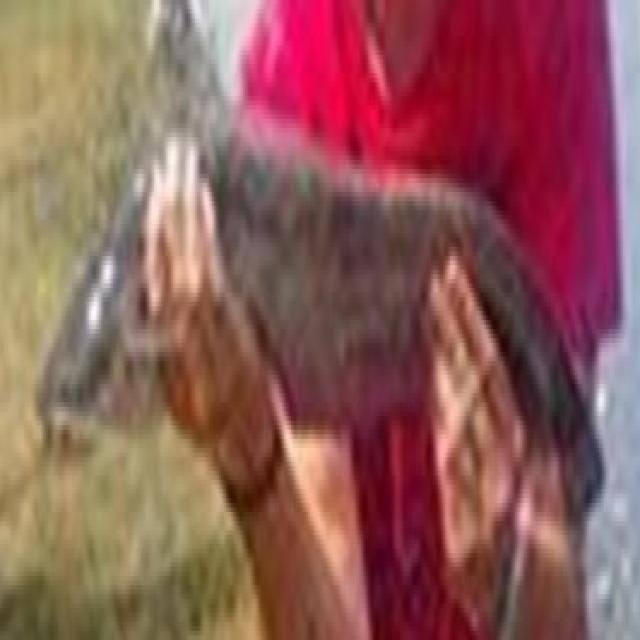Catfish: (33, 108, 603, 572)
